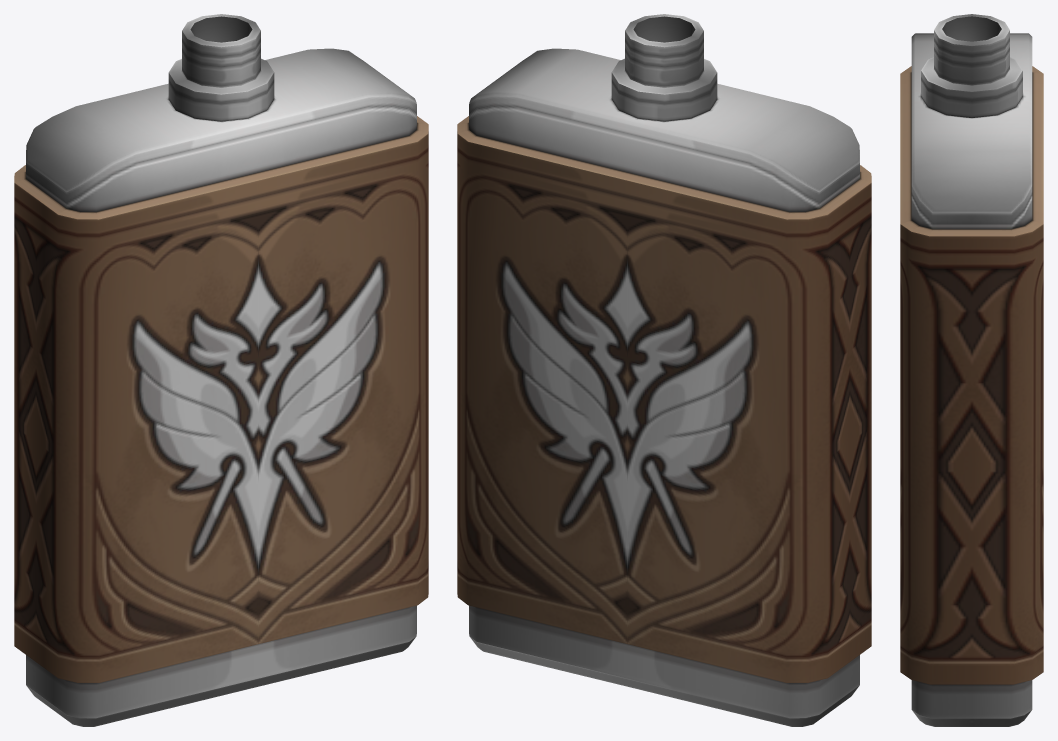
File: Wine.glb
3 views of the same model, side by side, from view 1: azimuth 30°, elevation 25°; view 2: azimuth 150°, elevation 25°; view 3: azimuth 270°, elevation 25° (orthographic). The views are drawn at different scales.
Parts seen in each view (by area): view 1: SkillObj_Varka_Wine_LOD0; view 2: SkillObj_Varka_Wine_LOD0; view 3: SkillObj_Varka_Wine_LOD0.
Boxes of the visible parts, x1=… form: SkillObj_Varka_Wine_LOD0: x1=14, y1=14, x2=428, y2=726; SkillObj_Varka_Wine_LOD0: x1=457, y1=14, x2=871, y2=726; SkillObj_Varka_Wine_LOD0: x1=900, y1=14, x2=1043, y2=726.
Bounding box in the file's own units: 0.1173 × 0.1937 × 0.0407.
1 material, 1 textured.
